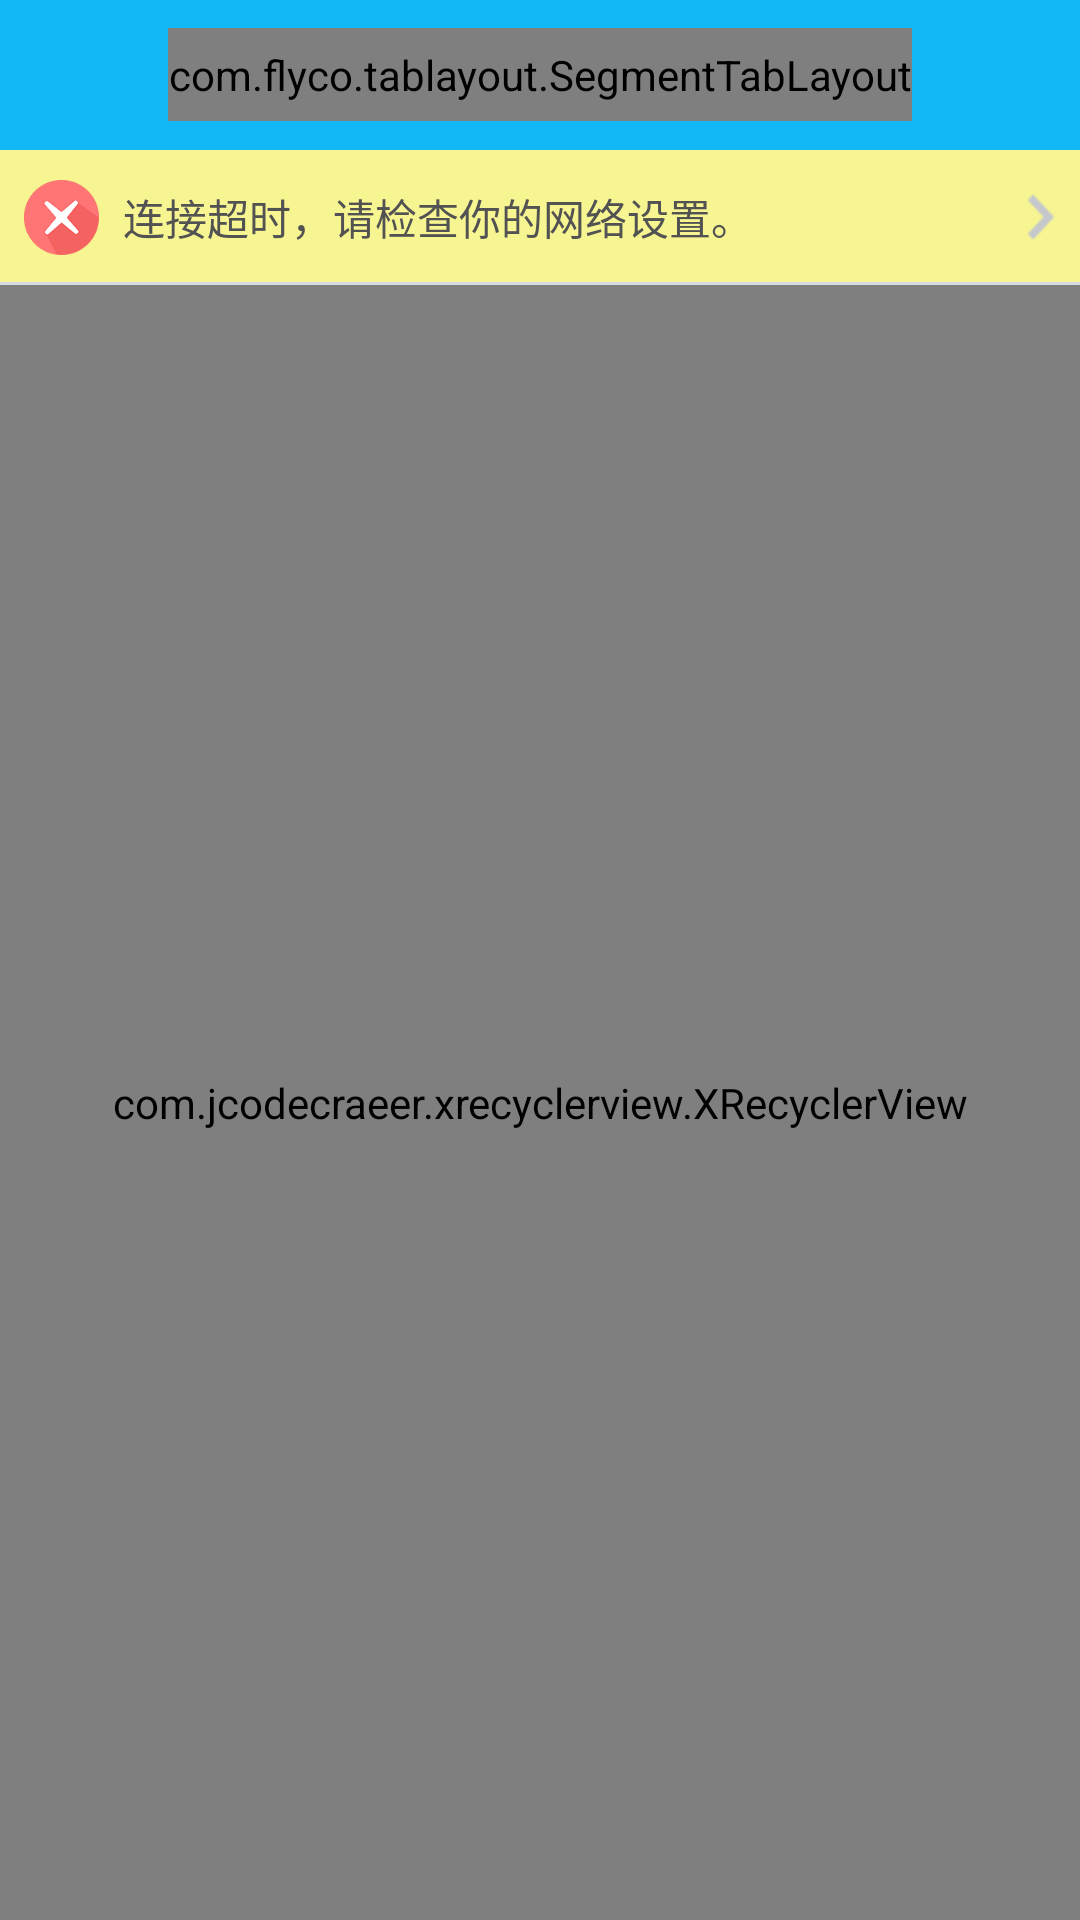

Screen size 1080×1920. Icon name, then its center in pixels as (x=x, y=y):
right: (x=1041, y=217)
wrong: (x=61, y=217)
